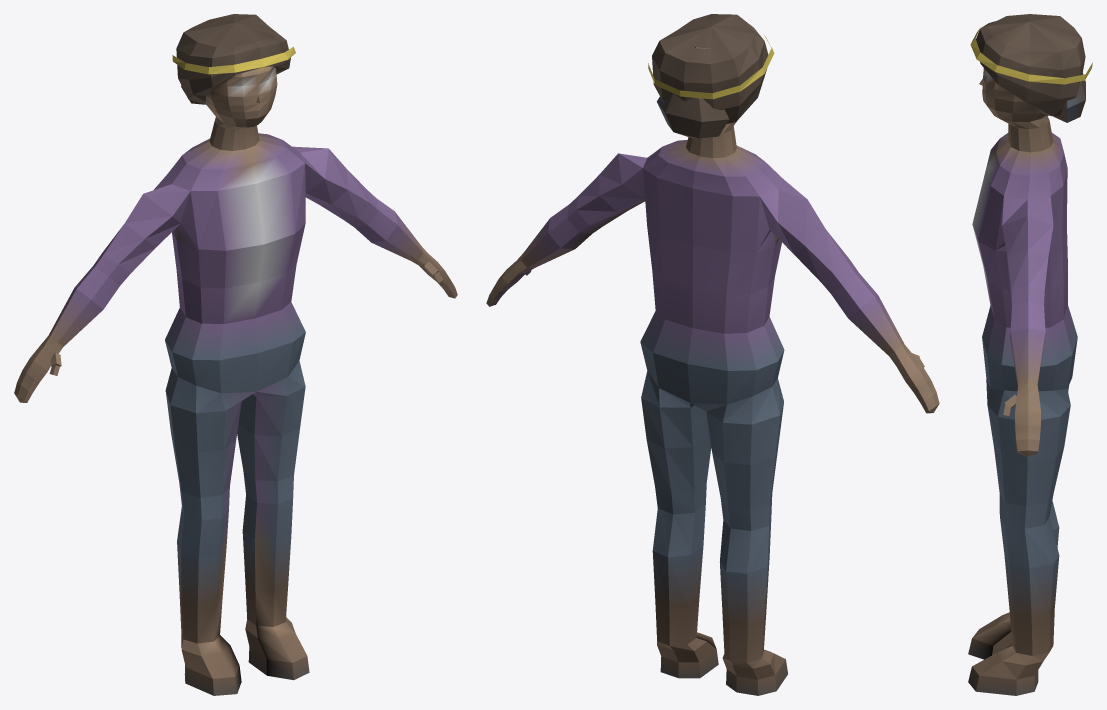
File: char__pessoa__multidao_09.glb
3 renders of one model, left to right at view 1: azimuth 30°, elevation 25°; view 2: azimuth 150°, elevation 25°; view 3: azimuth 270°, elevation 25°, orthographic. The views are drawn at different scales.
Parts seen in each view (by area): view 1: char__pessoa__multidao_09; view 2: char__pessoa__multidao_09; view 3: char__pessoa__multidao_09.
Boxes of the visible parts, x1=… form: char__pessoa__multidao_09: x1=14, y1=14, x2=457, y2=695; char__pessoa__multidao_09: x1=486, y1=14, x2=939, y2=695; char__pessoa__multidao_09: x1=968, y1=14, x2=1092, y2=695.
Bounding box in the file's own units: 1.19 × 1.68 × 0.2918.
